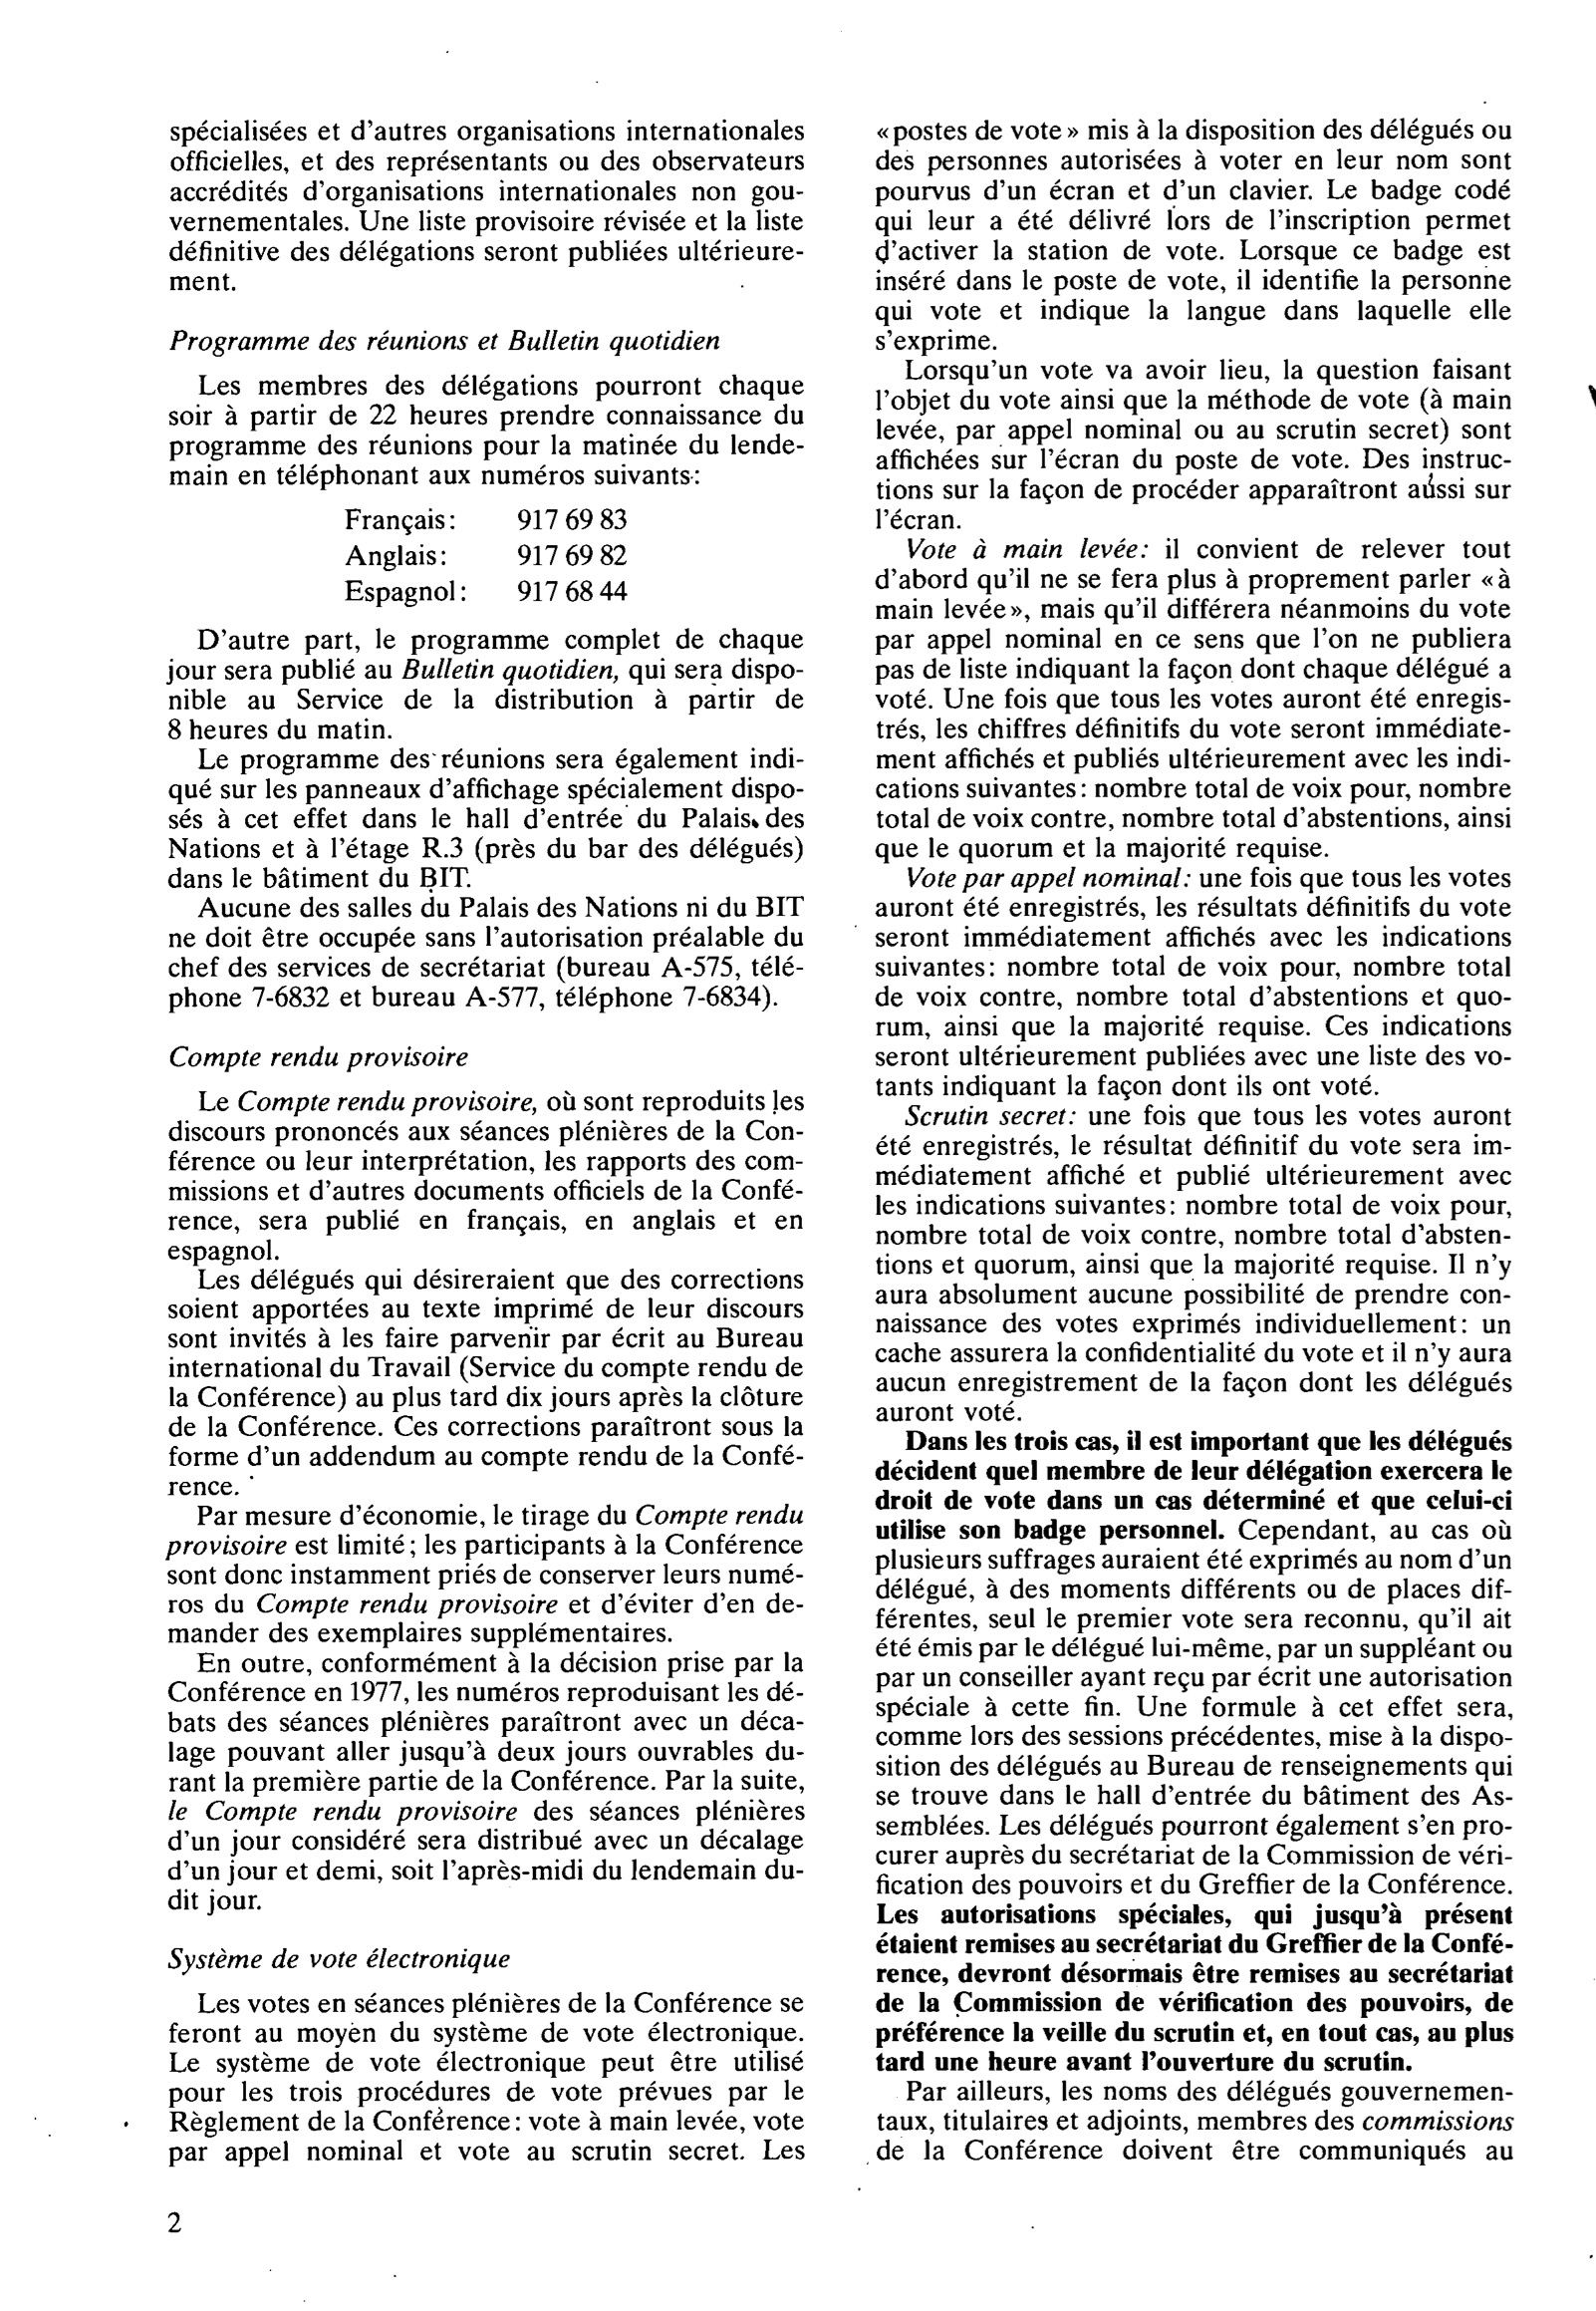MainZone-Continued: (866, 116, 1521, 355), (157, 113, 814, 303)
MainZone-Head: (158, 317, 734, 362), (158, 1938, 523, 1980), (155, 1035, 478, 1079)
MainZone-P: (869, 1426, 1522, 2076), (866, 533, 1520, 864), (866, 1102, 1521, 1425), (159, 1648, 813, 1919), (867, 864, 1520, 1102), (159, 1263, 812, 1497), (159, 1986, 813, 2175), (868, 354, 1521, 533), (161, 1084, 813, 1264), (157, 744, 815, 892), (158, 1501, 812, 1646), (159, 891, 817, 1019), (158, 368, 816, 493), (154, 622, 816, 745), (867, 2076, 1521, 2171)
TableZone-Head: (332, 497, 817, 615)
TitlePageZone: (158, 2204, 189, 2243)
